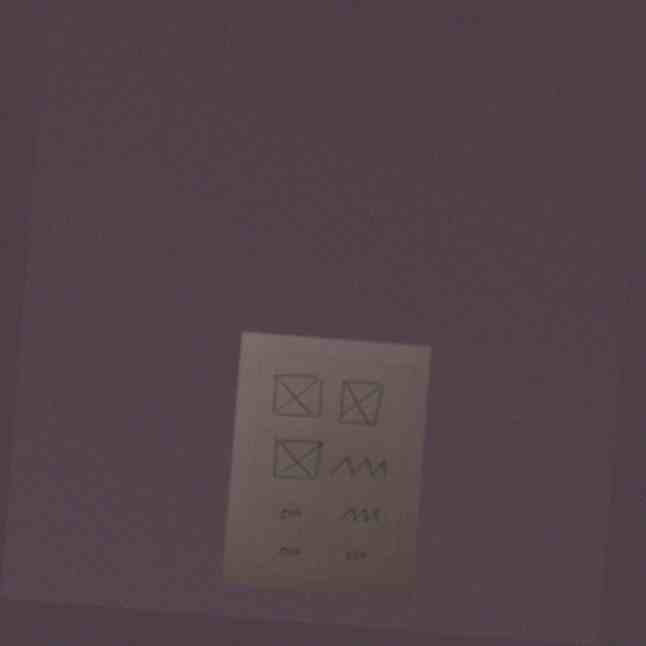image: (266, 369, 328, 423), (266, 435, 328, 486), (335, 376, 386, 430)
switch: (275, 540, 307, 566), (275, 503, 306, 528), (342, 546, 370, 566)
text: (329, 450, 389, 483), (334, 500, 383, 529)
